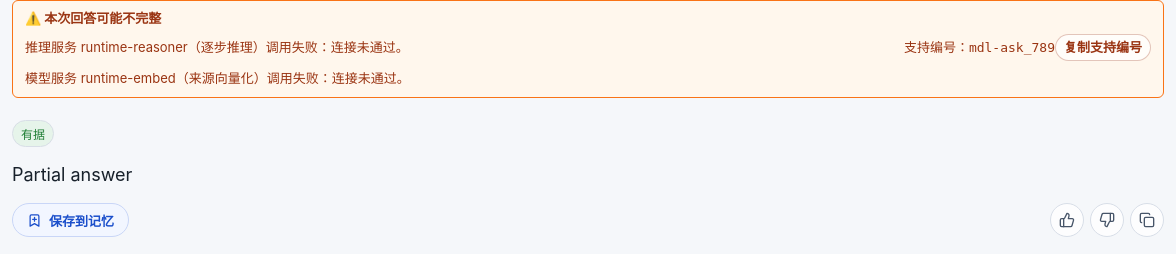
Scenario: a false execCommand fallback reports failure without an unhandled rejection
Click the button "复制支持编号". click: (1103,47)
box: [1055,34,1151,61]
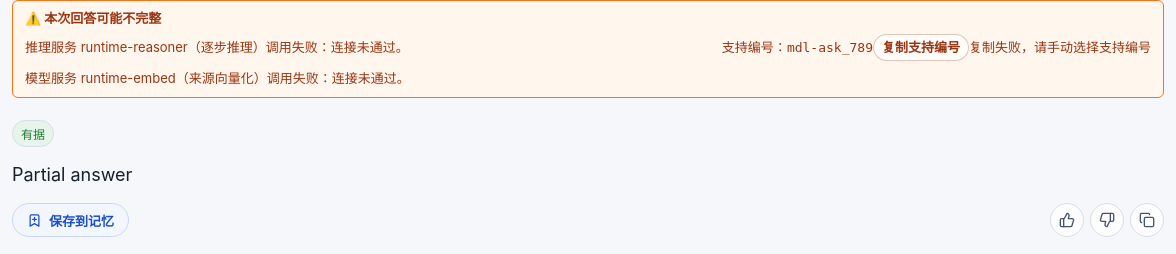
Check: the text "mdl-ask_789" is shown, box [787,40,873,54]
Check: the message reads "复制失败，请手动选择支持编号", box [969,38,1151,54]
